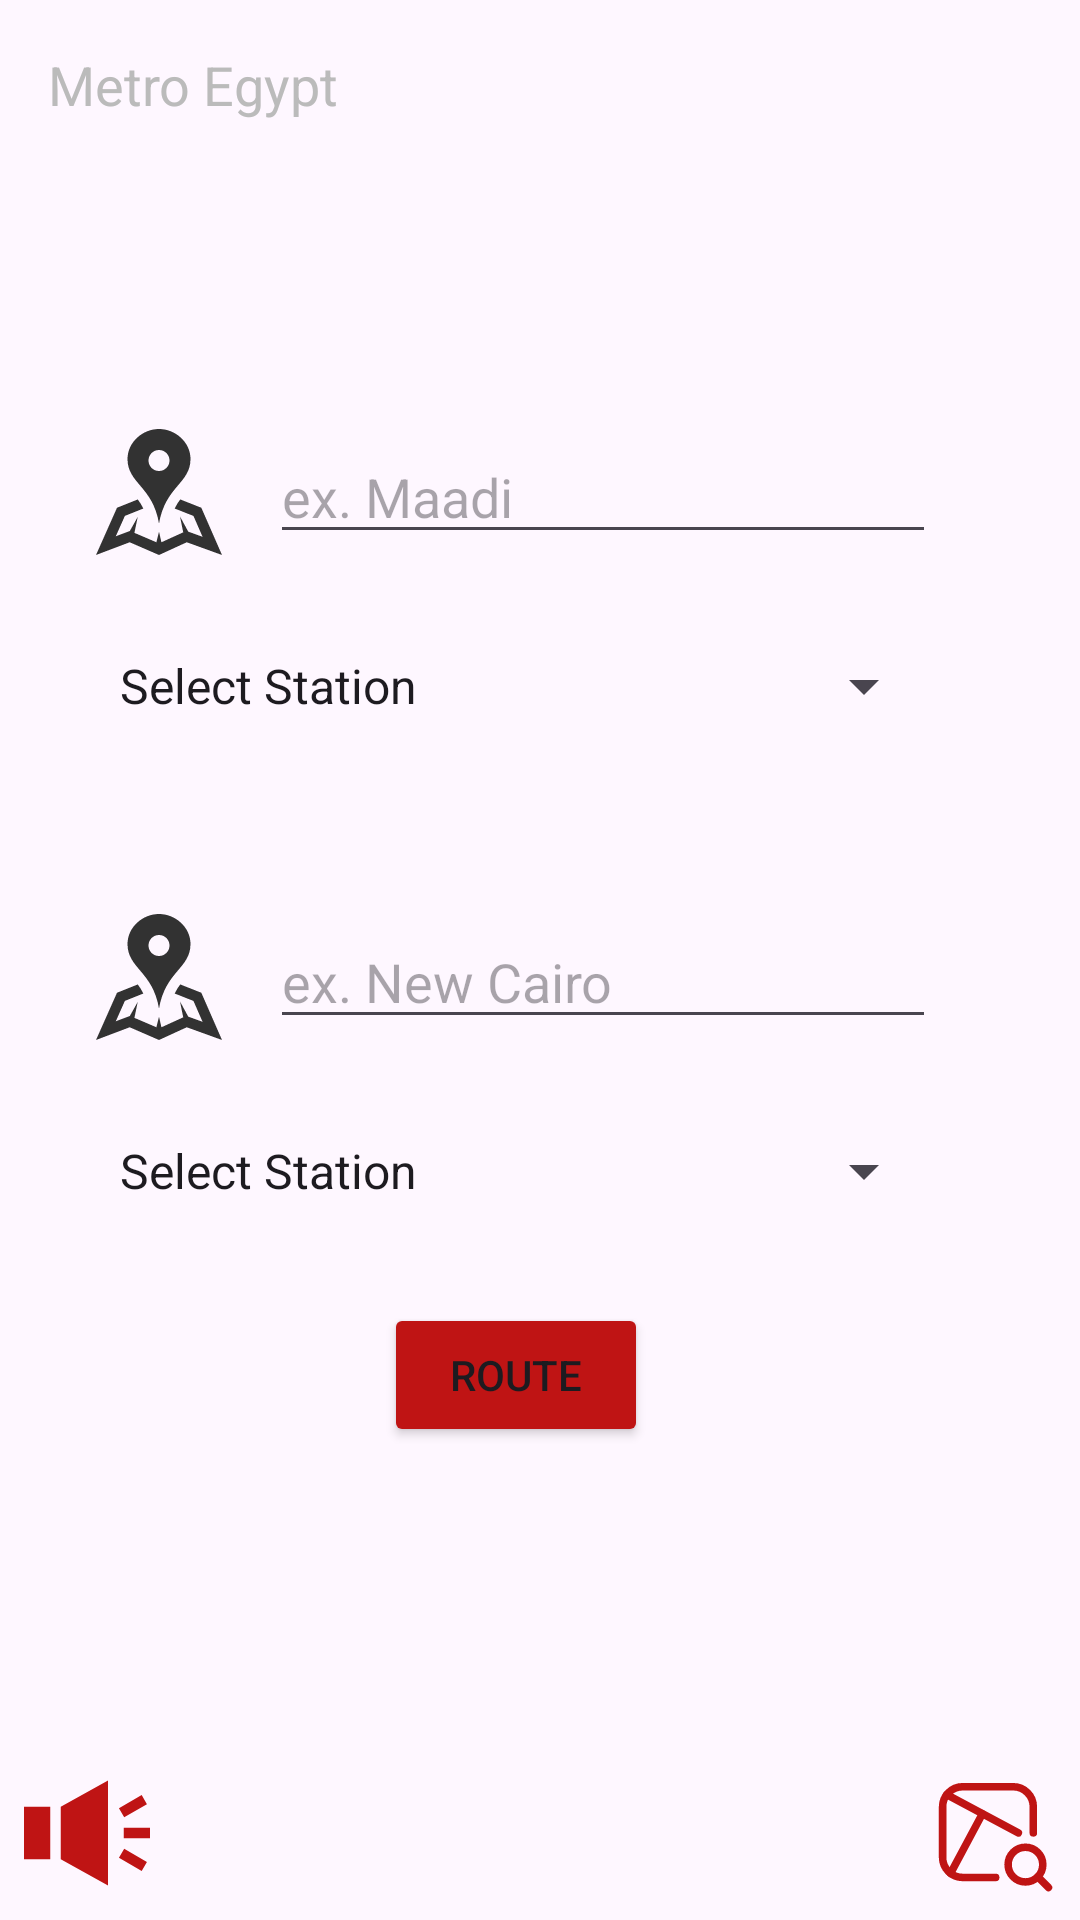

Named icons in this screenshot (1080 × 1920) and their bounding boxes, [left=x1, top=y1, right=x2, bottom=y2]:
location: [left=96, top=429, right=222, bottom=555], [left=96, top=914, right=222, bottom=1040]
map: [left=938, top=1783, right=1053, bottom=1892]
sound on: [left=24, top=1780, right=150, bottom=1886]
